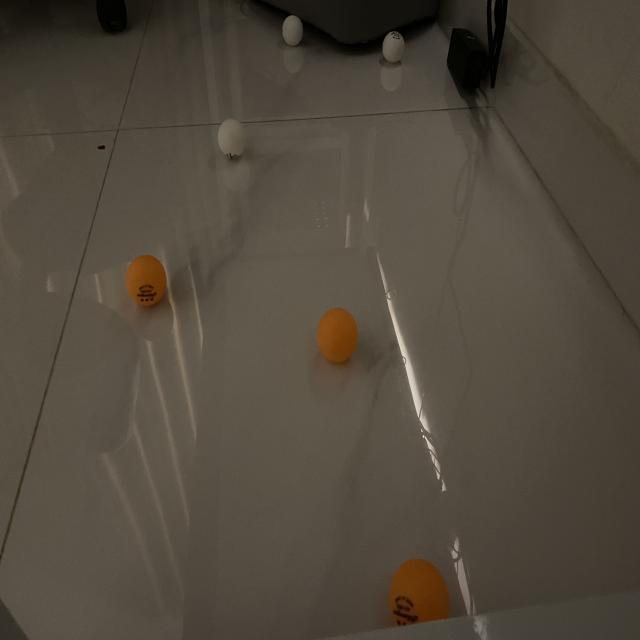ping-pong-ball: (390, 560, 450, 636), (316, 308, 358, 362), (125, 255, 166, 308), (218, 117, 248, 158), (382, 29, 406, 64), (282, 14, 304, 46)
